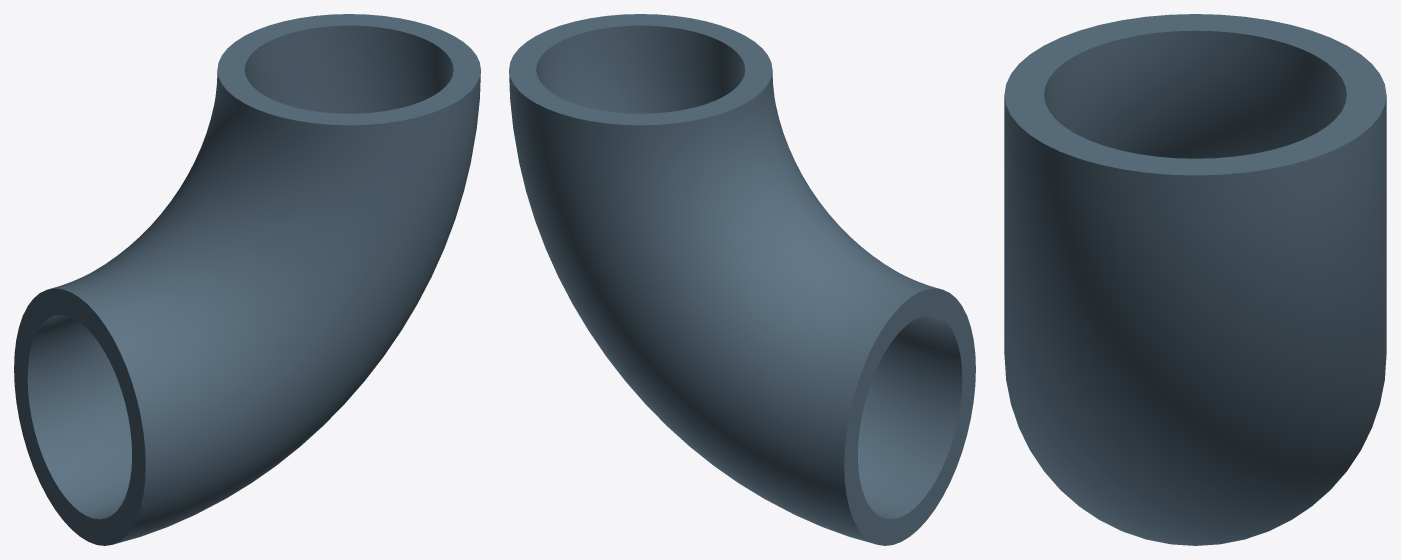
Rendered from otvod-90-48_3x5-R57.glb.
The picture shows the model from 3 angles, left to right: view 1: azimuth 30°, elevation 25°; view 2: azimuth 150°, elevation 25°; view 3: azimuth 270°, elevation 25°; orthographic projection. The views are drawn at different scales.
Parts seen in each view (by area): view 1: Open CASCADE STEP translator 7.9 13; view 2: Open CASCADE STEP translator 7.9 13; view 3: Open CASCADE STEP translator 7.9 13.
Boxes of the visible parts, box(x1,y1,x2,y2) form: Open CASCADE STEP translator 7.9 13: box(14, 14, 480, 545); Open CASCADE STEP translator 7.9 13: box(509, 14, 975, 545); Open CASCADE STEP translator 7.9 13: box(1004, 14, 1386, 545).
Bounding box in the file's own units: 81.15 × 81.15 × 48.3.
